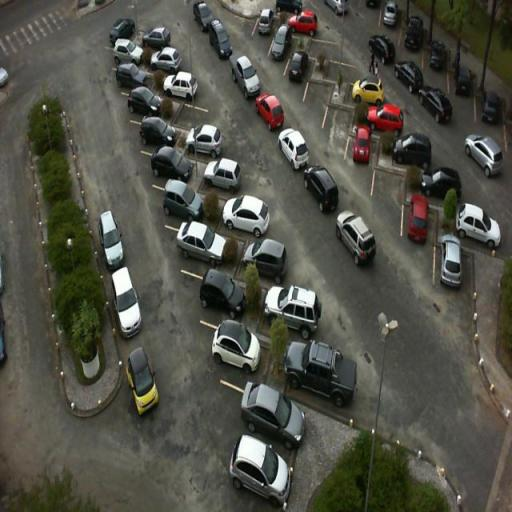Slot-empty: (368, 158, 411, 236), (312, 46, 372, 94), (300, 32, 360, 69), (331, 98, 356, 165), (308, 76, 332, 128)
